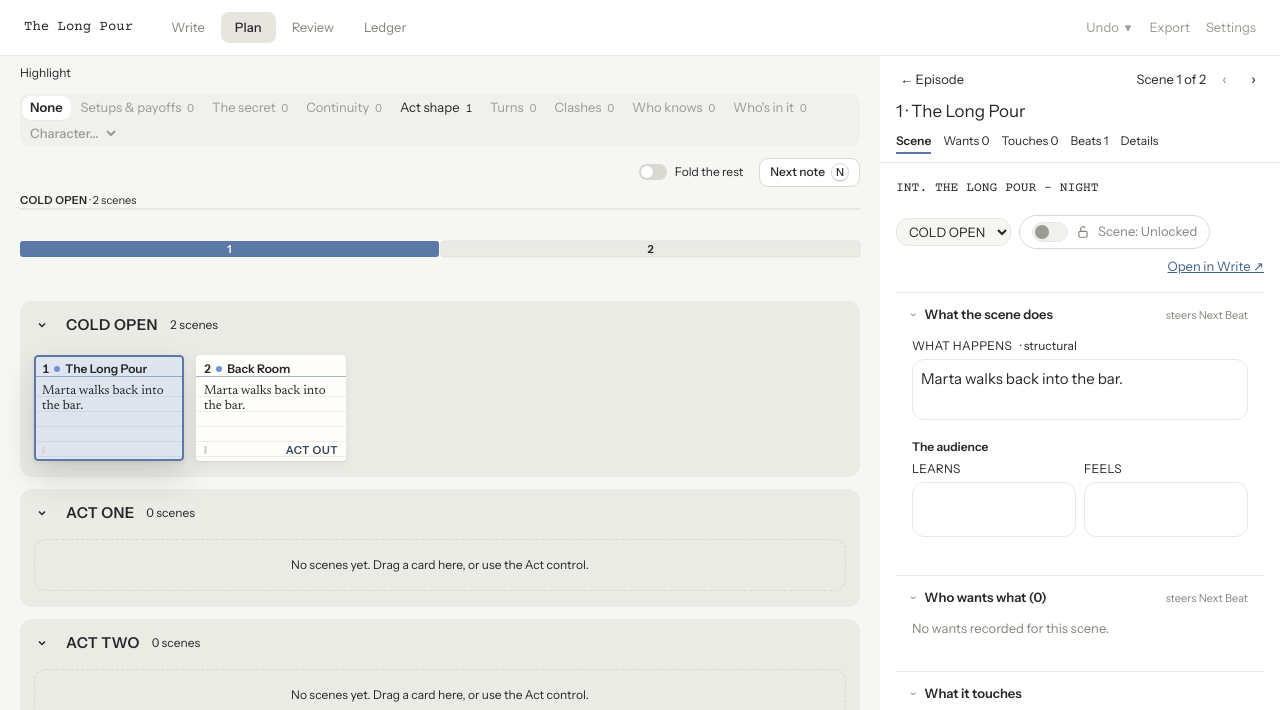
Test: PlanScreen › Discard and leave, then a failed Open Review: every draft comes back, and the sent text never left the box
Type "Dan has a second key." into the text box named "Audience learns".
click(994, 509); type("Dan has a second key.")  # box 912,482 -> 1076,536
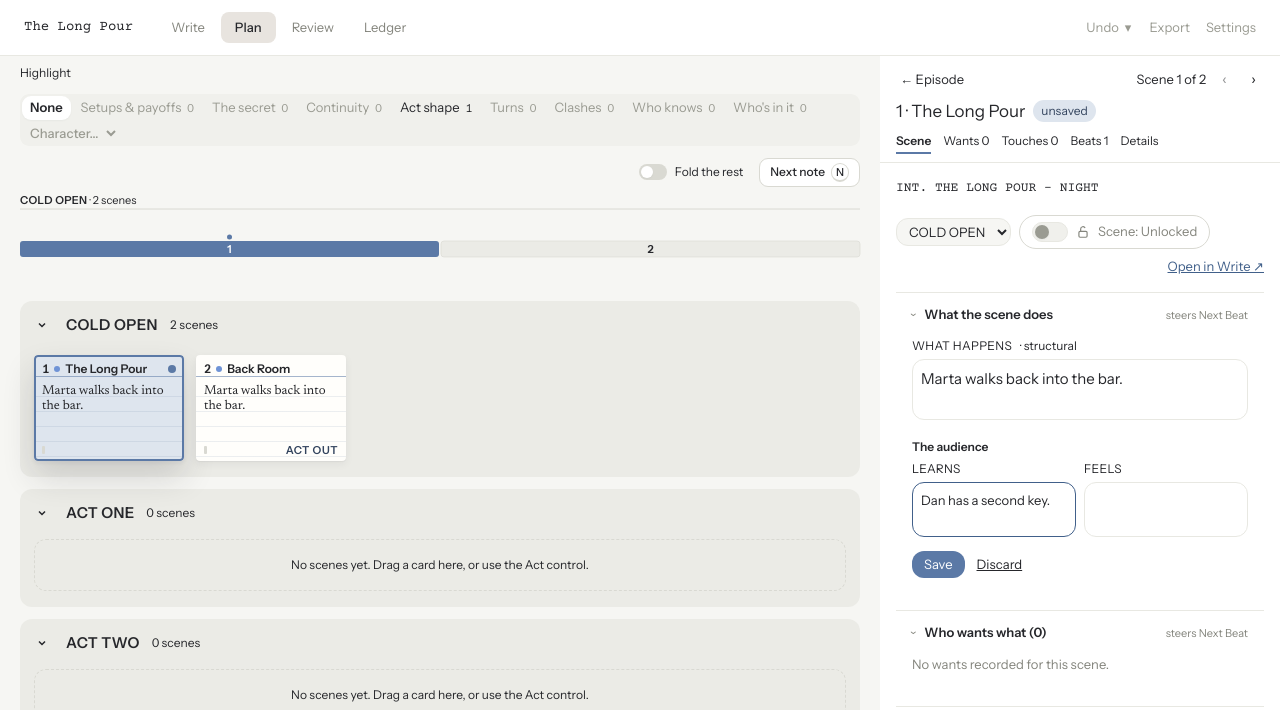
Replace the text in the text box named "What happens" with "Marta comes home for good." at (1080, 389), box 912,358 -> 1248,420
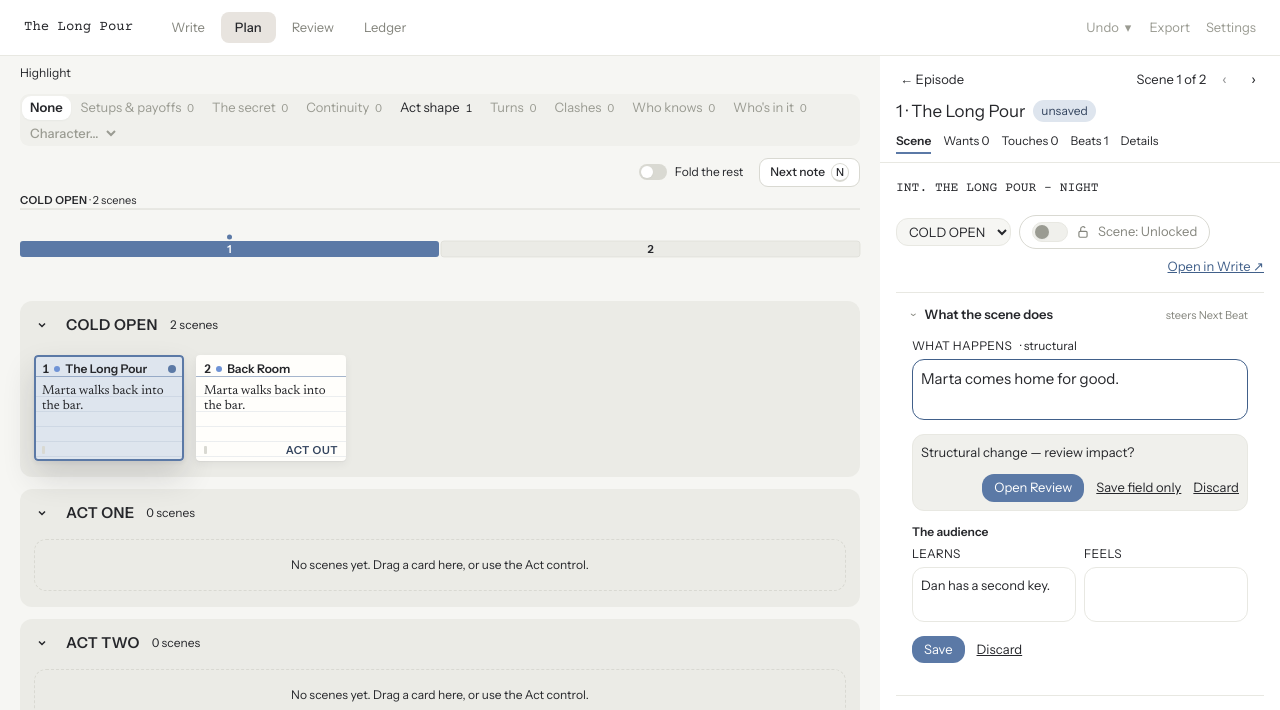
Click the button "Open Review".
click(1033, 488)  # box 982,474 -> 1084,502
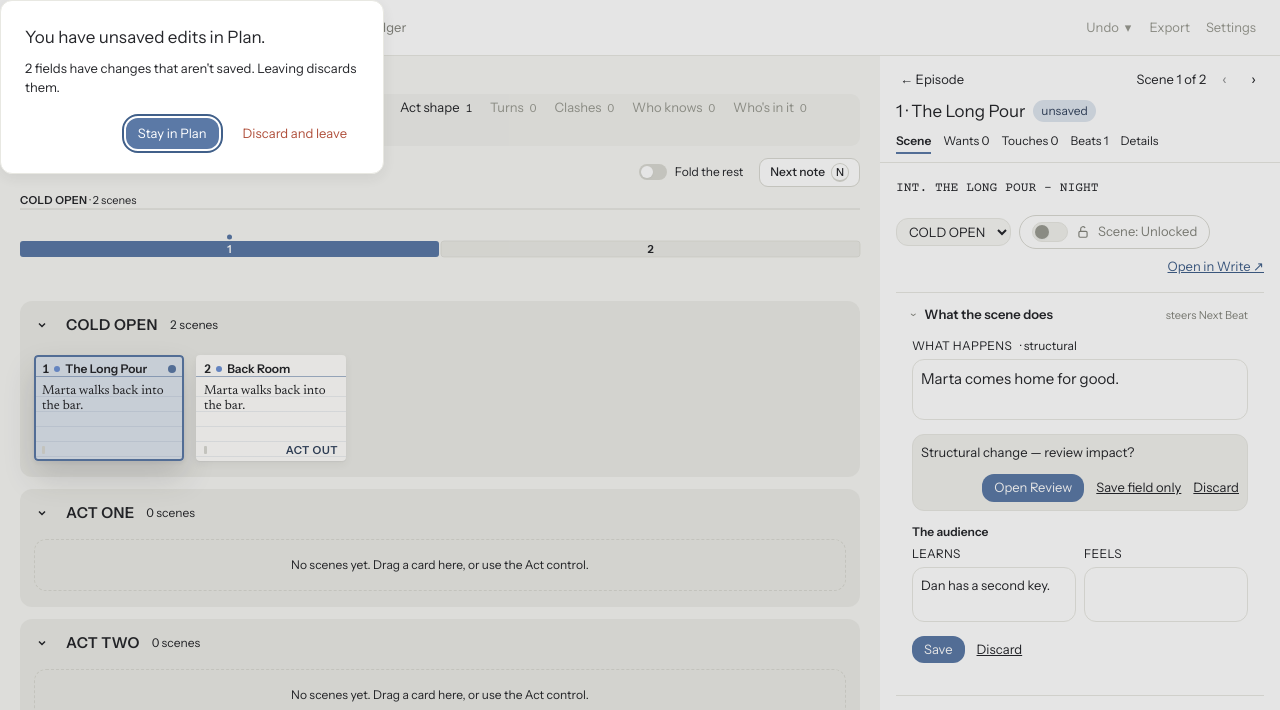
Click the button "Discard and leave".
click(295, 133)  # box 230,118 -> 359,149
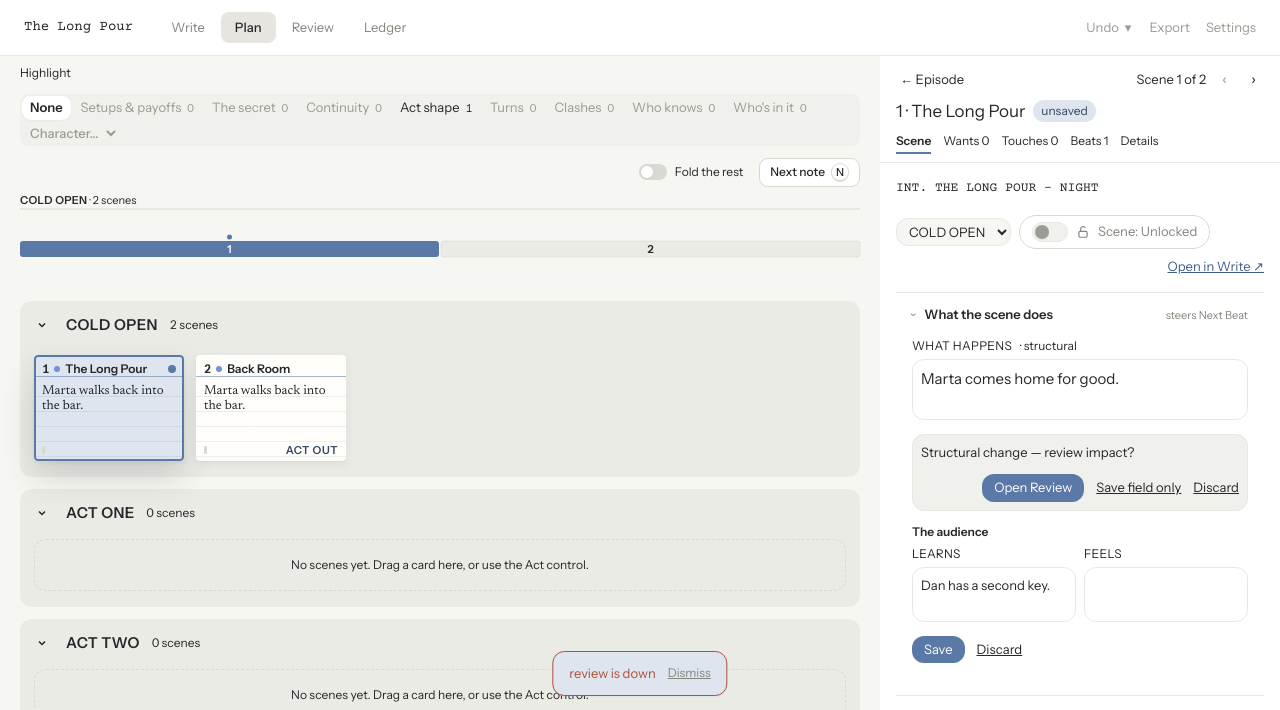
Now the text "review is down" is shown, box 569,664 -> 656,683
